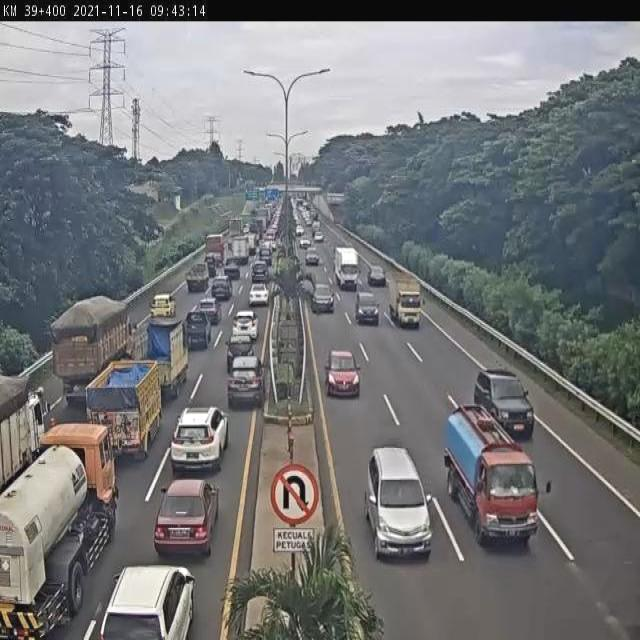Car: (365, 447, 433, 559), (97, 564, 196, 638), (153, 478, 220, 559), (474, 367, 534, 440), (171, 405, 230, 474), (226, 354, 266, 408), (324, 352, 361, 398), (185, 310, 213, 350), (226, 330, 256, 364), (231, 310, 260, 343), (355, 290, 380, 326), (310, 283, 335, 314), (197, 297, 221, 326), (150, 294, 175, 318), (210, 275, 232, 301), (248, 283, 270, 306), (251, 260, 270, 283), (223, 259, 242, 278), (368, 266, 386, 286), (258, 246, 273, 264), (305, 249, 320, 266), (300, 236, 311, 249), (314, 231, 324, 242), (296, 226, 304, 237)
Truck: (0, 423, 117, 640), (443, 404, 539, 547), (86, 358, 161, 452), (50, 298, 130, 382), (137, 319, 187, 394), (388, 272, 426, 328), (335, 248, 359, 288), (204, 232, 223, 268)
